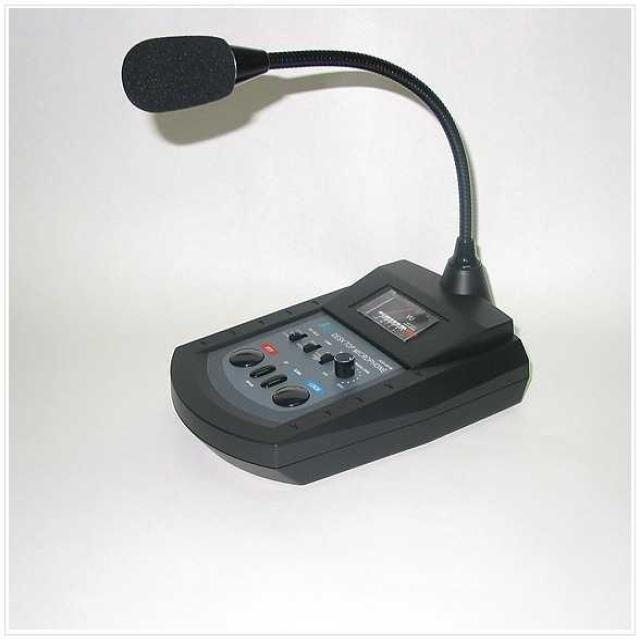microphone: (118, 29, 286, 118)
